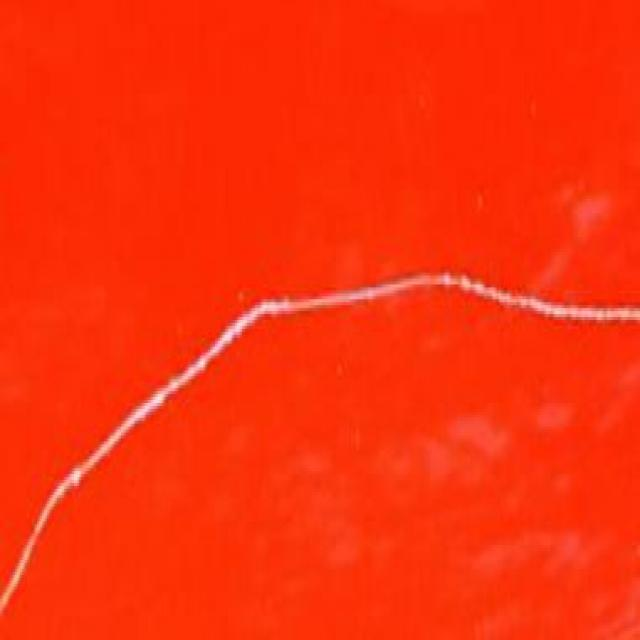scratch: (0, 263, 635, 640)
